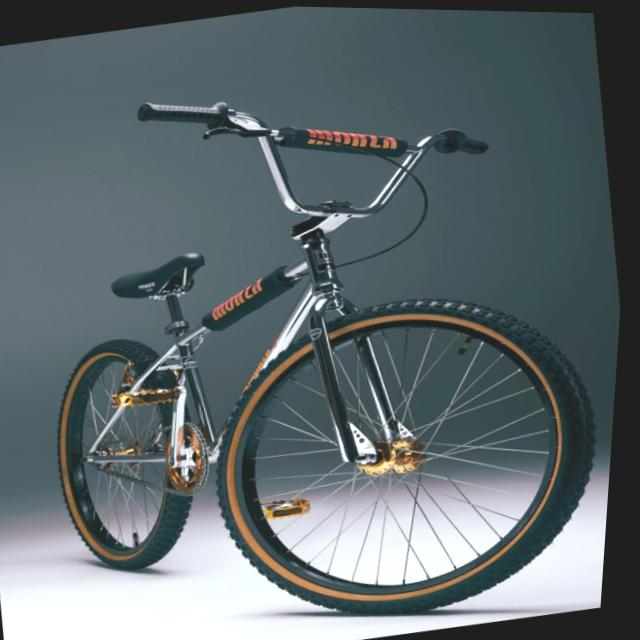bmx-bike: (0, 31, 638, 640)
